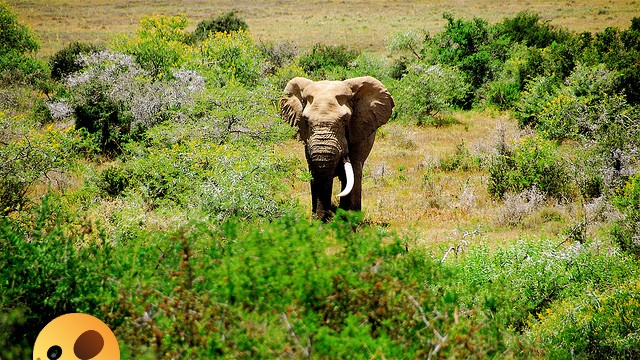wow: (33, 313, 120, 360)
